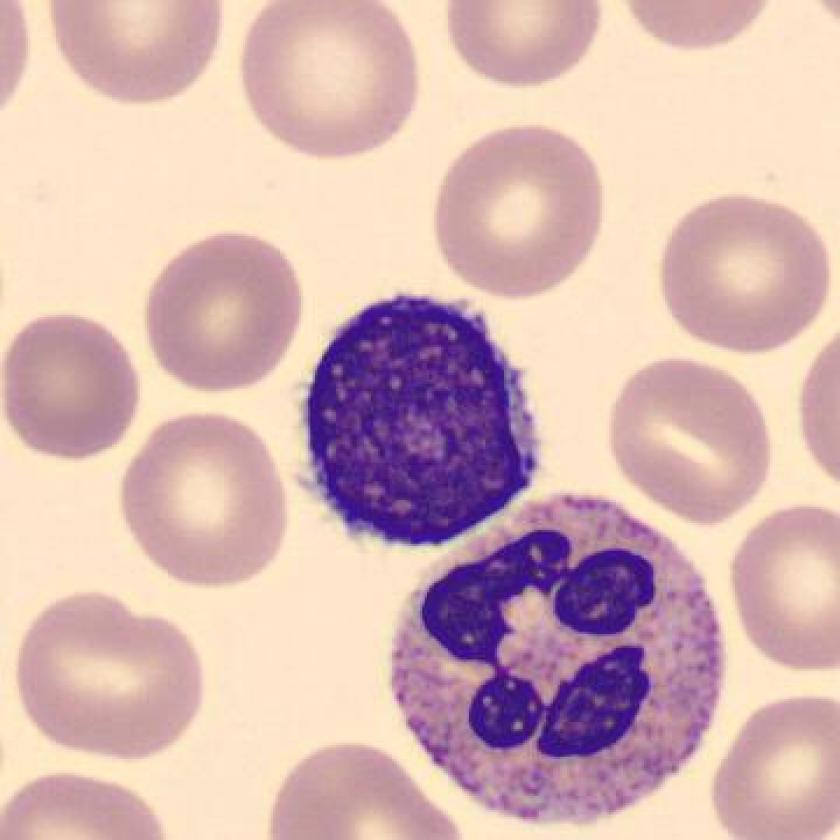lymphocyte: (286, 276, 549, 561)
neutrophil: (385, 488, 732, 835)
